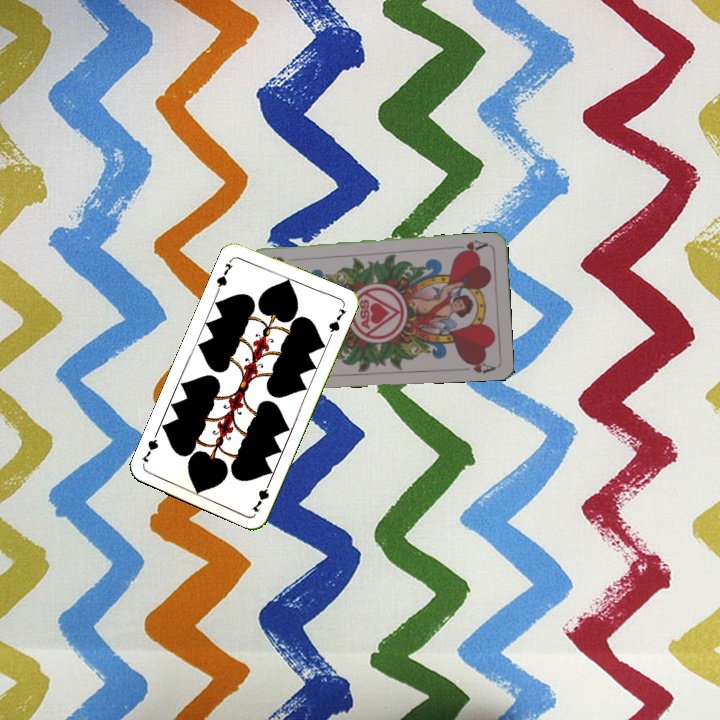G7: (248, 476, 273, 515), (212, 255, 236, 294)
HA: (451, 236, 490, 257)
